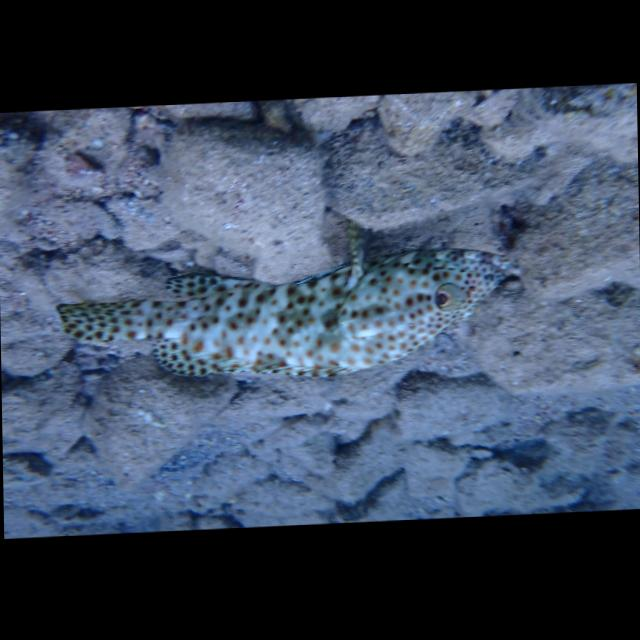Groupers: (49, 242, 508, 393)
